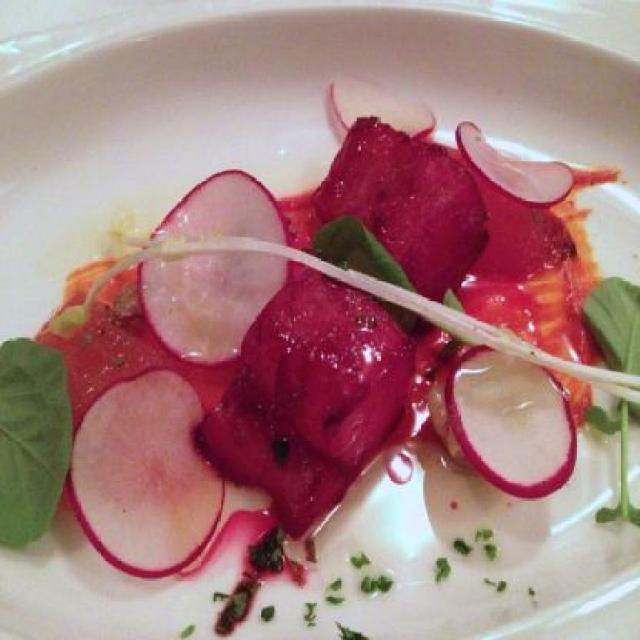Radish: (64, 369, 228, 580), (136, 160, 296, 366), (444, 346, 580, 500), (454, 118, 574, 212), (329, 72, 440, 134)
